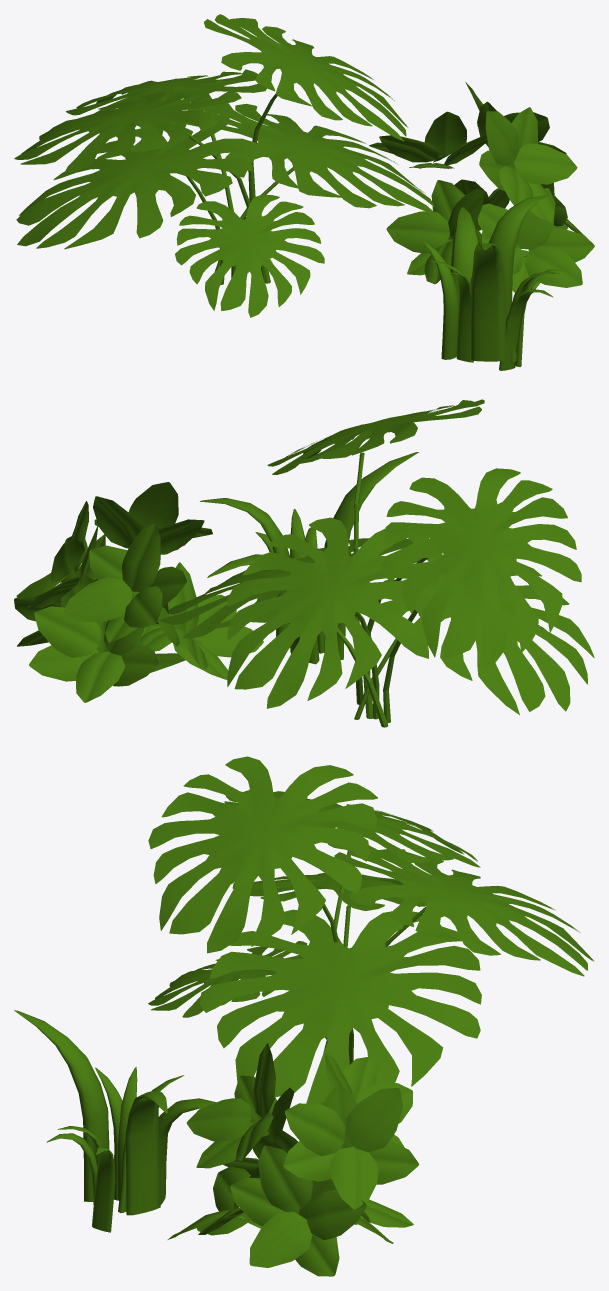
Rendered from myRoomIn3DPlantsUnwrapped.fbx.
3 views of the same model, one above another, from view 1: azimuth 30°, elevation 25°; view 2: azimuth 150°, elevation 25°; view 3: azimuth 270°, elevation 25° (orthographic). The views are drawn at different scales.
Parts seen in each view (by area): view 1: Circle.111, Circle.050, Circle.004, Cube.138; view 2: Circle.111, Circle.050, Circle.004, Cube.138, Cube.139, Cube.140; view 3: Circle.111, Circle.050, Circle.004.
Boxes of the visible parts, x1=… form: Circle.111: x1=14, y1=14, x2=435, y2=317; Circle.050: x1=369, y1=82, x2=594, y2=292; Circle.004: x1=423, y1=195, x2=560, y2=370; Cube.138: x1=248, y1=94, x2=277, y2=283; Circle.111: x1=159, y1=399, x2=594, y2=714; Circle.050: x1=14, y1=482, x2=263, y2=702; Circle.004: x1=200, y1=452, x2=418, y2=664; Cube.138: x1=353, y1=452, x2=364, y2=704; Cube.139: x1=337, y1=628, x2=388, y2=727; Cube.140: x1=383, y1=610, x2=417, y2=722; Circle.111: x1=148, y1=756, x2=593, y2=1104; Circle.050: x1=167, y1=1043, x2=419, y2=1276; Circle.004: x1=14, y1=1010, x2=216, y2=1232.
Bounding box in the file's own units: 252 × 144 × 216.
